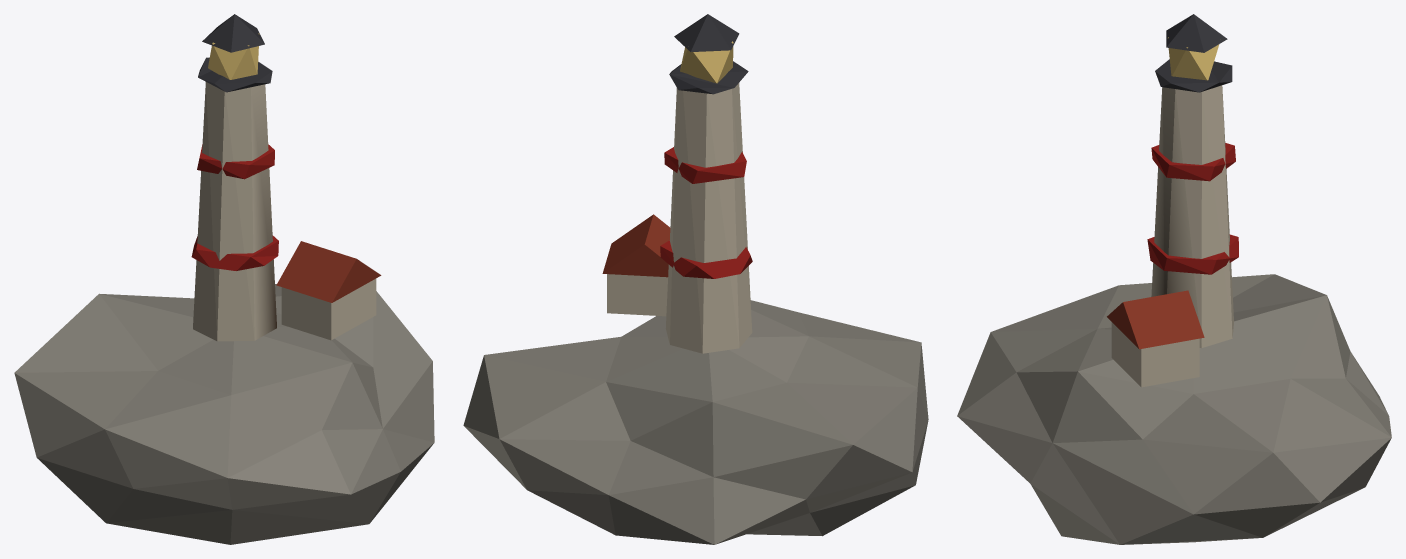
Rendered from arch_lantern_rock_lod1.glb.
The picture shows the model from 3 angles, left to right: view 1: azimuth 30°, elevation 25°; view 2: azimuth 150°, elevation 25°; view 3: azimuth 270°, elevation 25°; orthographic projection. The views are drawn at different scales.
Parts seen in each view (by area): view 1: geometry_0; view 2: geometry_0; view 3: geometry_0.
Part boxes in pixels (left/top/right/bottom): geometry_0: left=14, top=14, right=434, bottom=544; geometry_0: left=463, top=14, right=928, bottom=544; geometry_0: left=957, top=14, right=1391, bottom=544.
Bounding box in the file's own units: 36.7 × 42.83 × 34.3.
